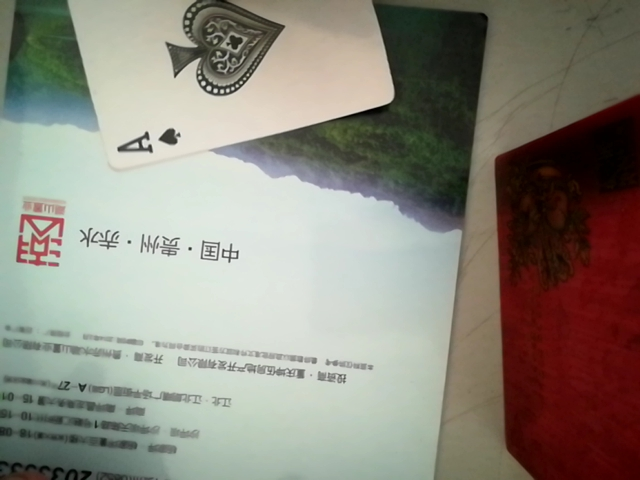ht a: (41, 0, 407, 162)
